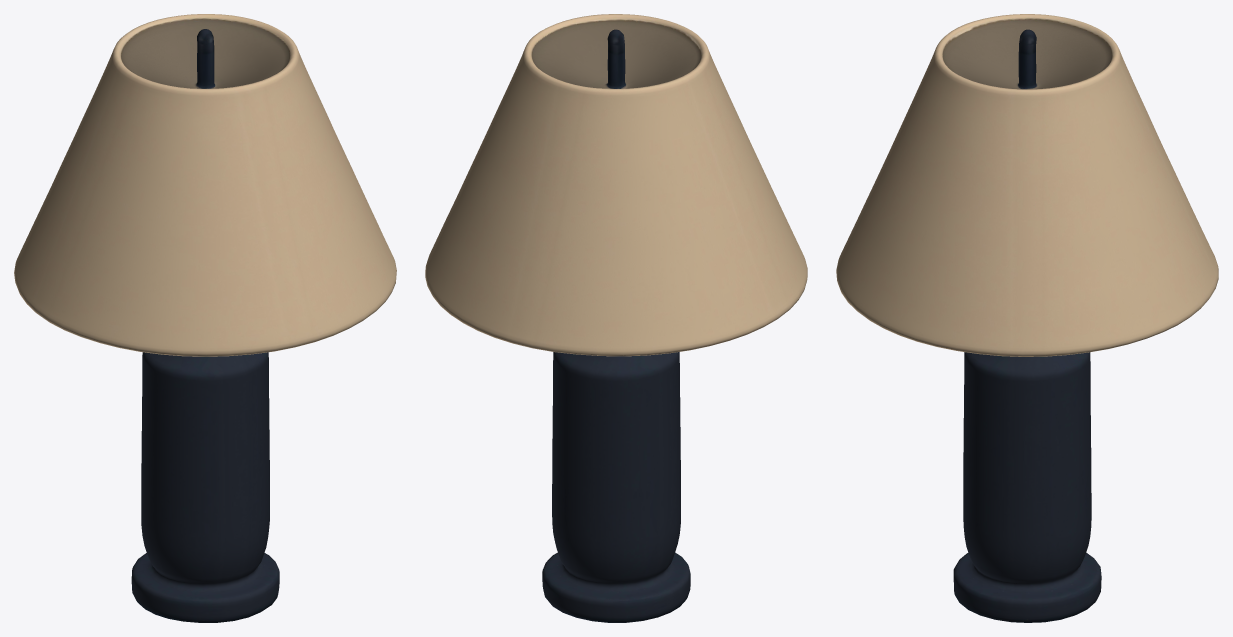
File: tripo_convert_6bb10a8f-94a3-46d7-ad5b-1b6706b84e5b.fbx
The picture shows the model from 3 angles, left to right: view 1: azimuth 30°, elevation 25°; view 2: azimuth 150°, elevation 25°; view 3: azimuth 270°, elevation 25°; orthographic projection.
Visible parts, largest first — view 1: tripo_node_6bb10a8f; view 2: tripo_node_6bb10a8f; view 3: tripo_node_6bb10a8f.
Boxes of the visible parts, x1,y1,x2,y2 form: tripo_node_6bb10a8f: (14,14,396,622); tripo_node_6bb10a8f: (425,14,807,622); tripo_node_6bb10a8f: (836,14,1218,622).
Size of the model in its own units: 0.6046 by 0.9805 by 0.6029.
1 material, 1 textured.
